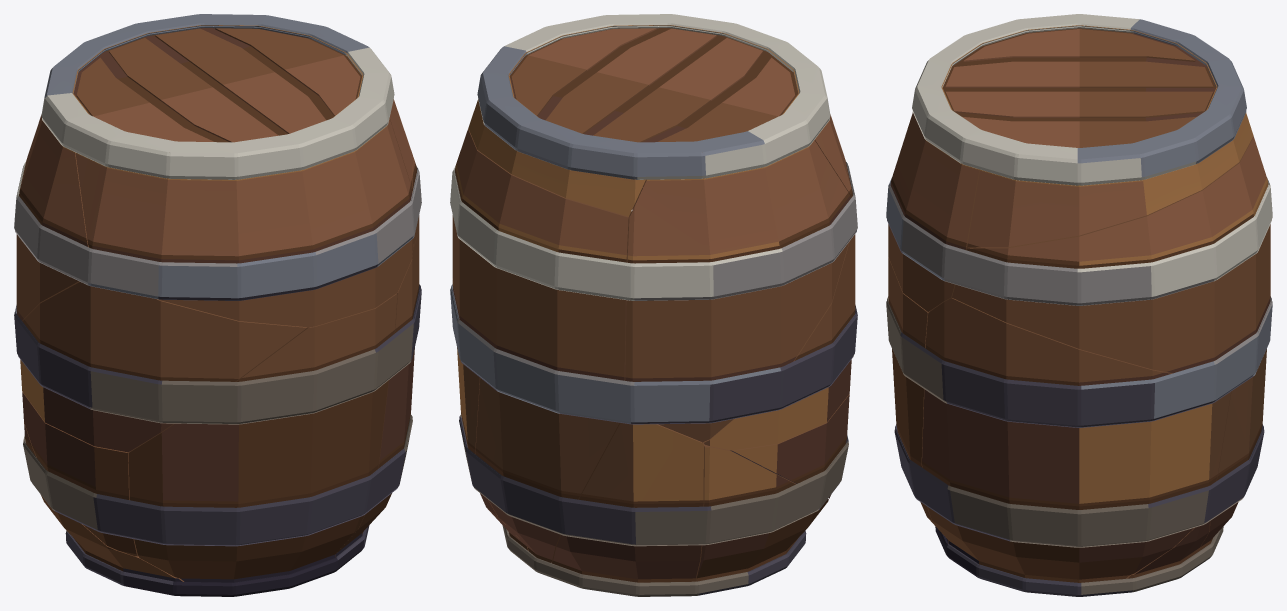
File: breakable_barrel.glb
3 views of the same model, side by side, from view 1: azimuth 30°, elevation 25°; view 2: azimuth 150°, elevation 25°; view 3: azimuth 270°, elevation 25° (orthographic).
Visible parts, largest first — view 1: Lid; view 2: Lid; view 3: Lid.
Boxes of the visible parts, x1,y1,x2,y2 form: Lid: (14,14,421,596); Lid: (450,14,857,596); Lid: (886,14,1272,596).
Size of the model in its own units: 0.5813 by 0.7 by 0.5476.
